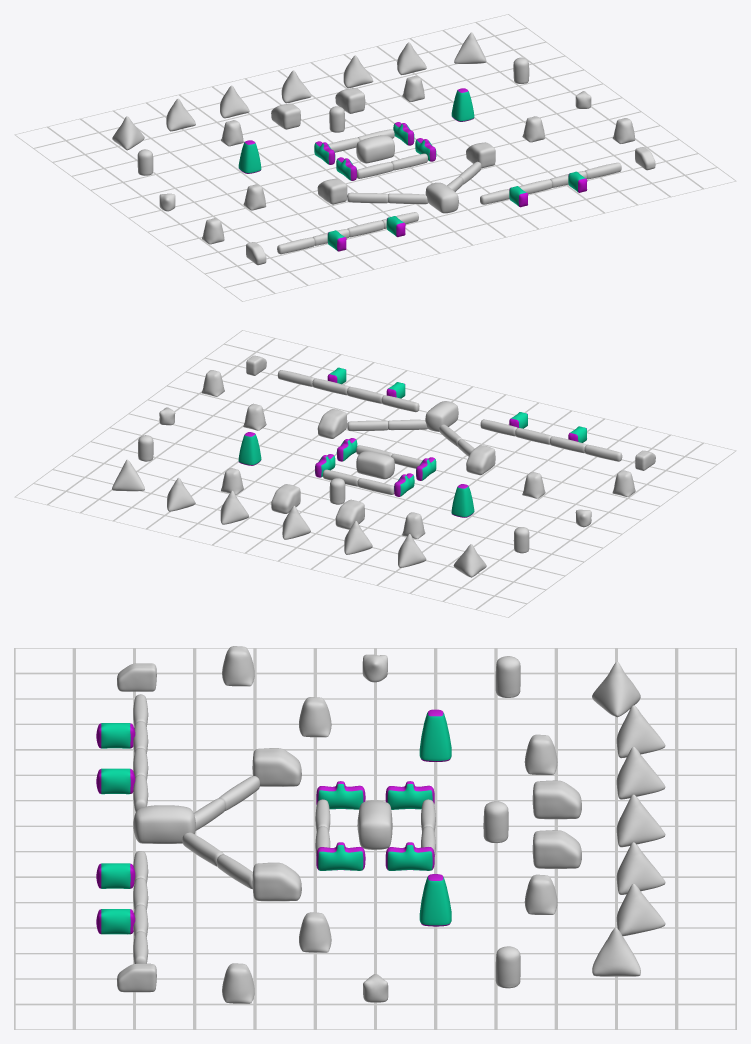
The model's file is 2024_NXL_Mid-Atlantic Major_Pro.fbx.
3 views of the same model, one above another, from view 1: azimuth 30°, elevation 25°; view 2: azimuth 150°, elevation 25°; view 3: azimuth 270°, elevation 25° (orthographic). The views are drawn at different scales.
Visible parts, largest first — view 1: Tetris_M.002; view 2: Tetris_M.002; view 3: Tetris_M.002.
Boxes of the visible parts, x1,y1,x2,y2 form: Tetris_M.002: (14, 14, 736, 301); Tetris_M.002: (14, 330, 736, 617); Tetris_M.002: (14, 646, 736, 1029).
Size of the model in its own units: 4572 by 254 by 3658.
